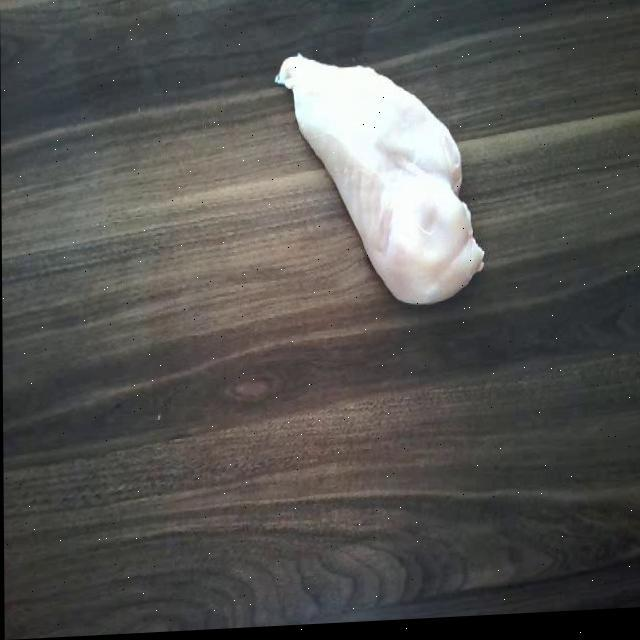breast: (272, 46, 488, 324)
